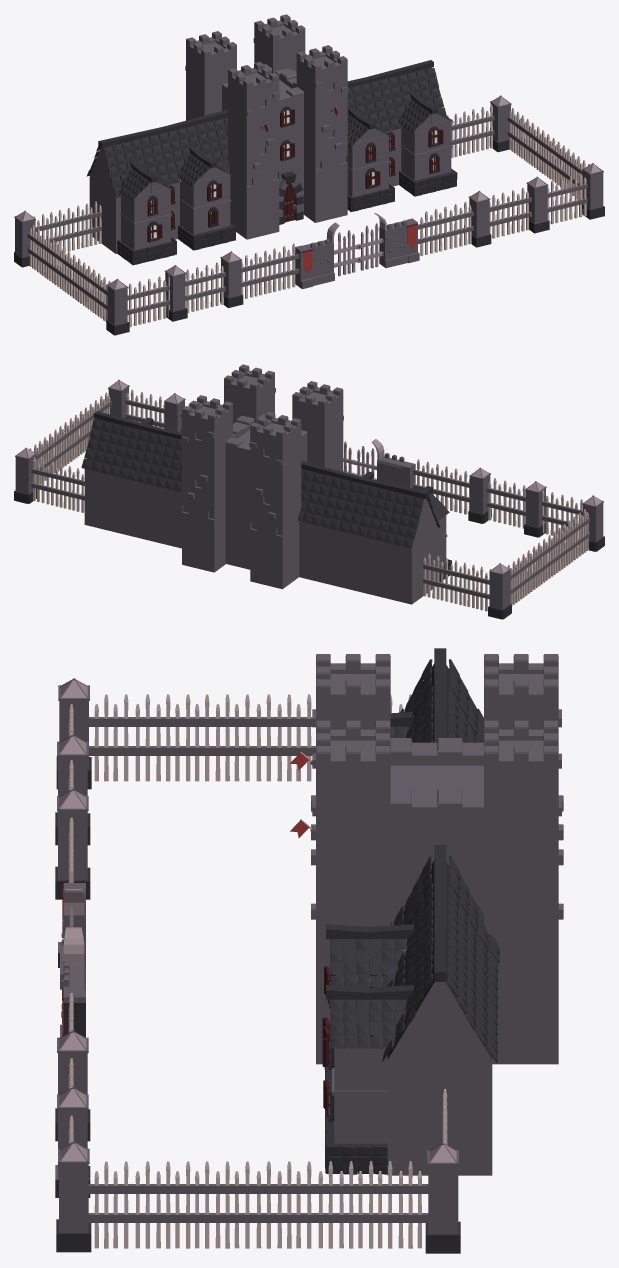
File: School.fbx
The picture shows the model from 3 angles, top to bottom: view 1: azimuth 30°, elevation 25°; view 2: azimuth 150°, elevation 25°; view 3: azimuth 270°, elevation 25°; orthographic projection. The views are drawn at different scales.
Visible parts, largest first — view 1: Здание с забором; view 2: Здание с забором; view 3: Здание с забором.
Boxes of the visible parts, x1,y1,x2,y2 form: Здание с забором: (14,14,604,335); Здание с забором: (14,364,604,619); Здание с забором: (55,648,563,1253).
Size of the model in its own units: 3489 by 1068 by 1567.
